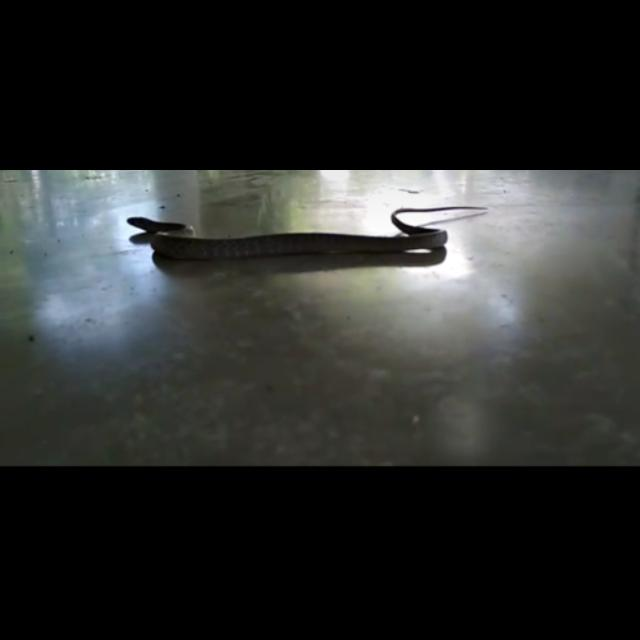snake: (118, 196, 492, 268)
